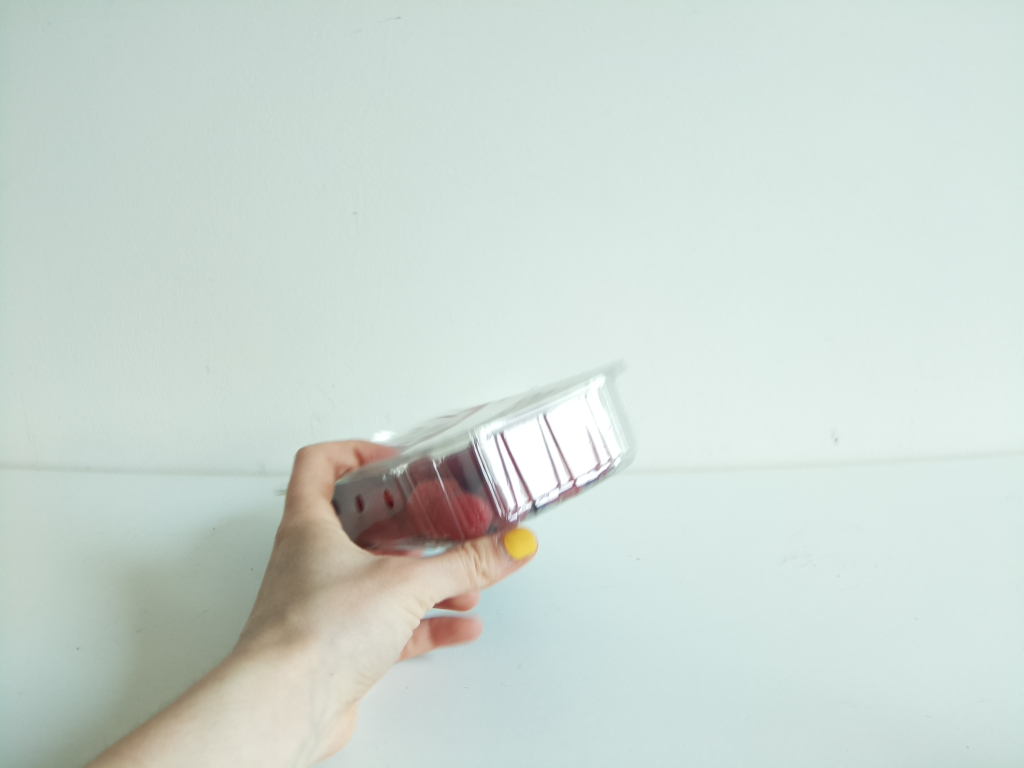soft-fruit: (336, 361, 647, 554)
